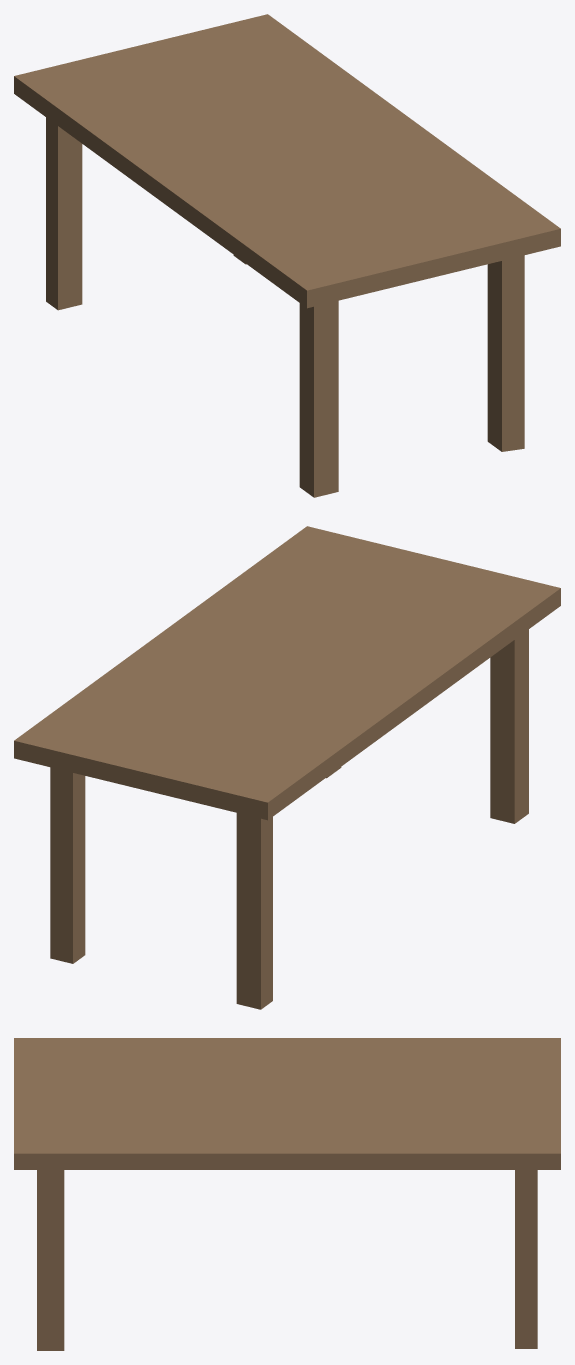
The model's file is Table.fbx.
3 renders of one model, top to bottom at view 1: azimuth 30°, elevation 25°; view 2: azimuth 150°, elevation 25°; view 3: azimuth 270°, elevation 25°, orthographic. The views are drawn at different scales.
Parts seen in each view (by area): view 1: Table; view 2: Table; view 3: Table.
Boxes of the visible parts, x1=… form: Table: x1=14, y1=14, x2=560, y2=497; Table: x1=14, y1=526, x2=560, y2=1009; Table: x1=14, y1=1038, x2=560, y2=1350.
Size of the model in its own units: 75 by 63.02 by 150.
